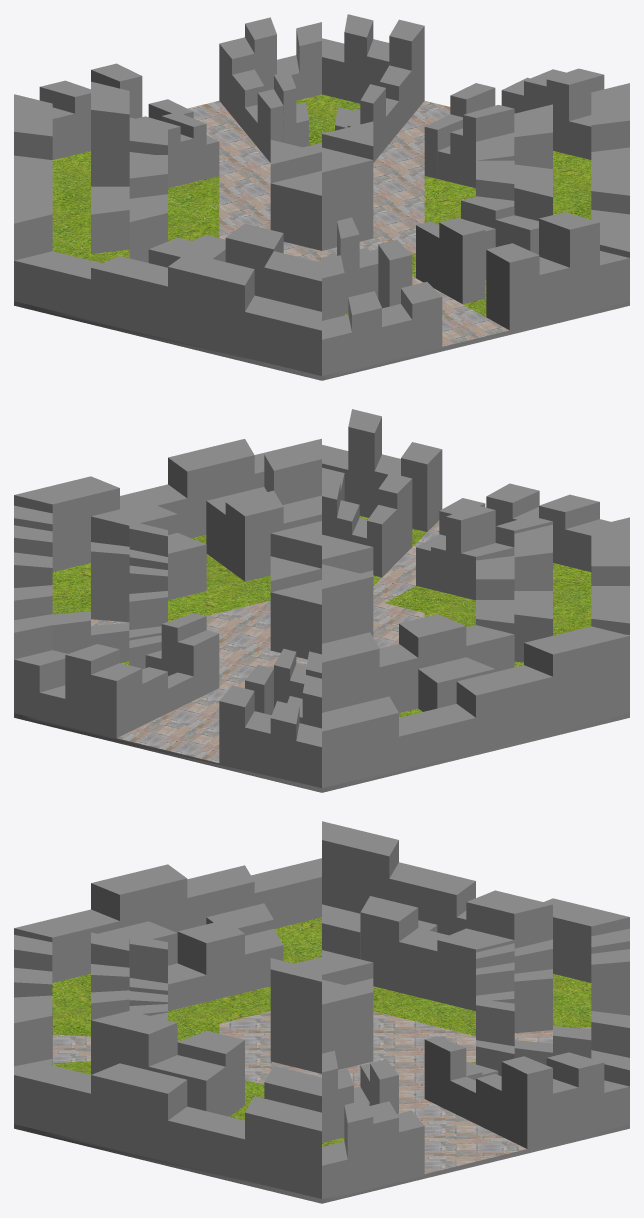
The picture shows the model from 3 angles, top to bottom: view 1: azimuth 30°, elevation 25°; view 2: azimuth 150°, elevation 25°; view 3: azimuth 270°, elevation 25°; orthographic projection.
Visible parts, largest first — view 1: Cylinder038; view 2: Cylinder038; view 3: Cylinder038.
Boxes of the visible parts, x1,y1,x2,y2 form: Cylinder038: (14,14,629,380); Cylinder038: (14,409,629,792); Cylinder038: (14,821,629,1203).
Size of the model in its own units: 140 by 21 by 121.
Materials: 5 (2 with a texture image).
